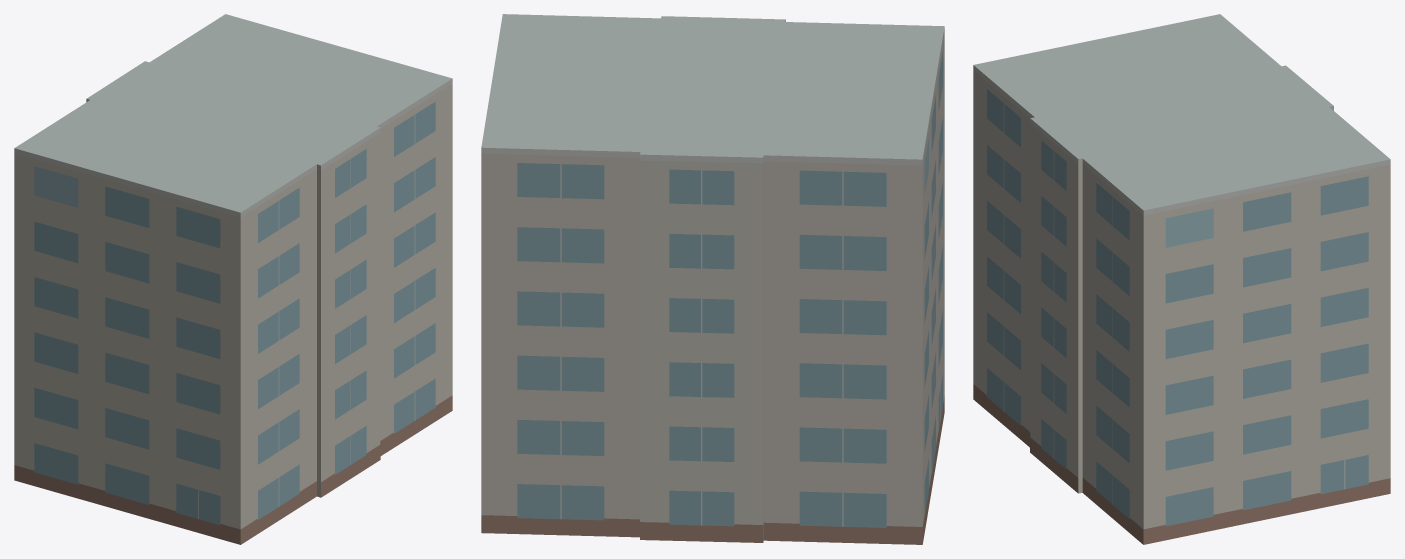
File: survey-upis-32705140.glb
The picture shows the model from 3 angles, left to right: view 1: azimuth 30°, elevation 25°; view 2: azimuth 150°, elevation 25°; view 3: azimuth 270°, elevation 25°; orthographic projection. The views are drawn at different scales.
Parts seen in each view (by area): view 1: survey-upis-32705140.tmp; view 2: survey-upis-32705140.tmp; view 3: survey-upis-32705140.tmp.
Part boxes in pixels (x1,y1,x2,y2): survey-upis-32705140.tmp: (14,14,452,544); survey-upis-32705140.tmp: (481,14,944,544); survey-upis-32705140.tmp: (973,14,1390,544).
Bounding box in the file's own units: 20.18 × 16 × 18.11.
